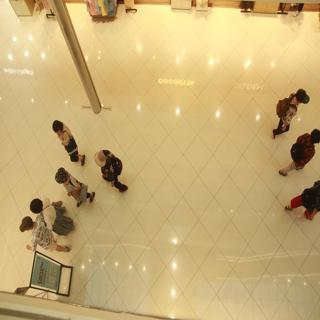person: (17, 216, 80, 265), (269, 129, 320, 182), (29, 192, 85, 239), (93, 142, 136, 201), (270, 80, 311, 134), (46, 111, 82, 166), (282, 183, 320, 223)
